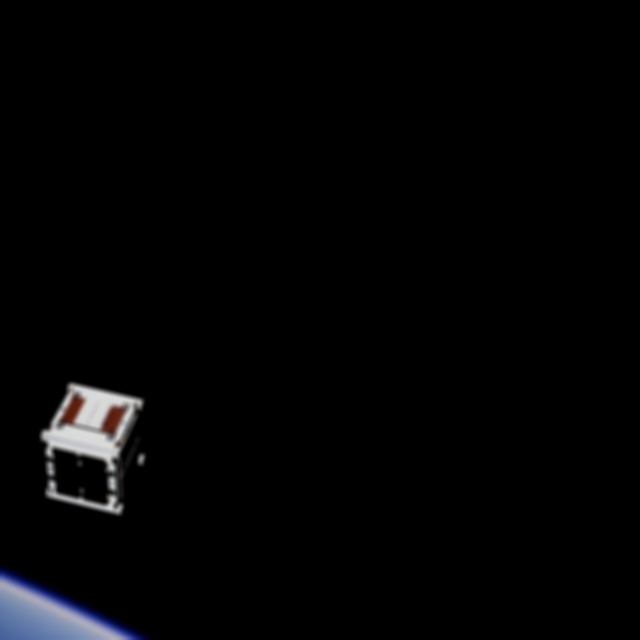medium_debris: (41, 383, 158, 525)
